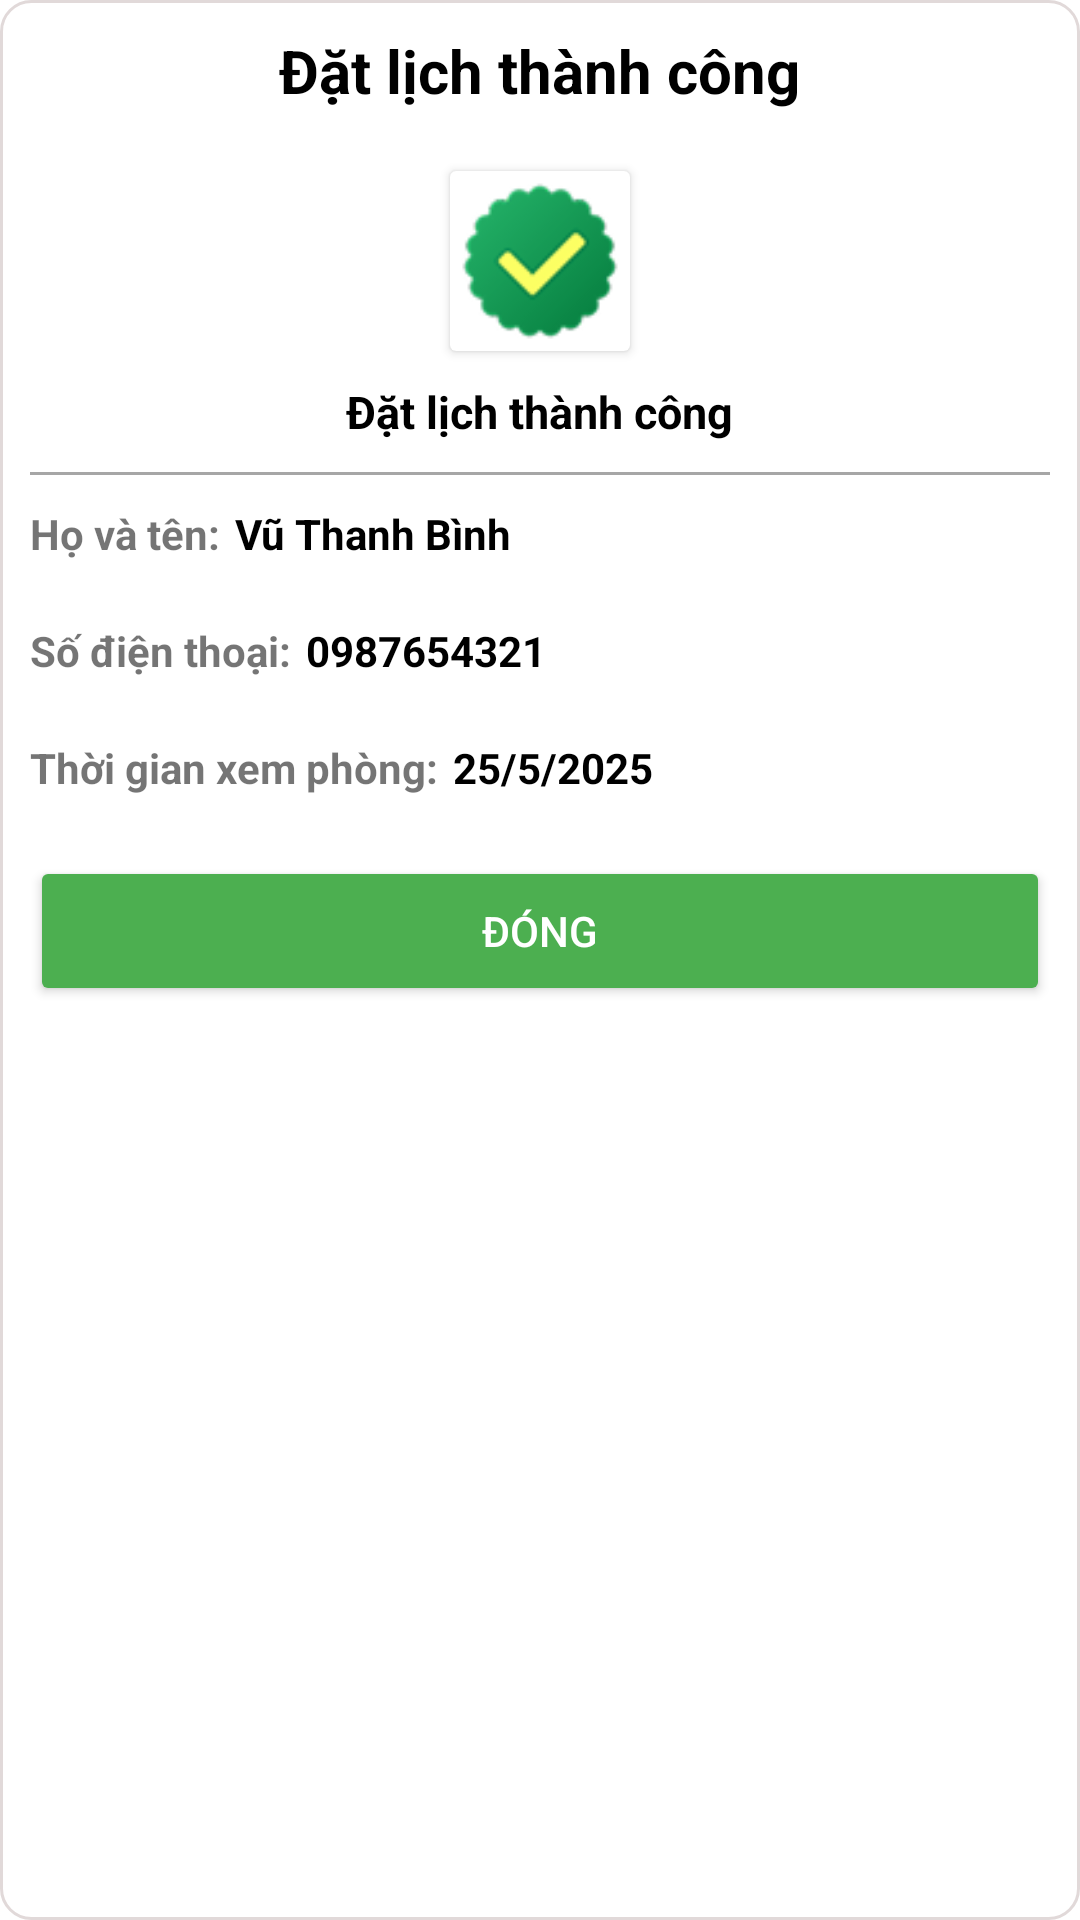

Icon bounding boxes for this 1080px x 1920px phone screenshot, format bbox=(x1, y1, x2, y2):
approval: bbox=(452, 184, 629, 351)
